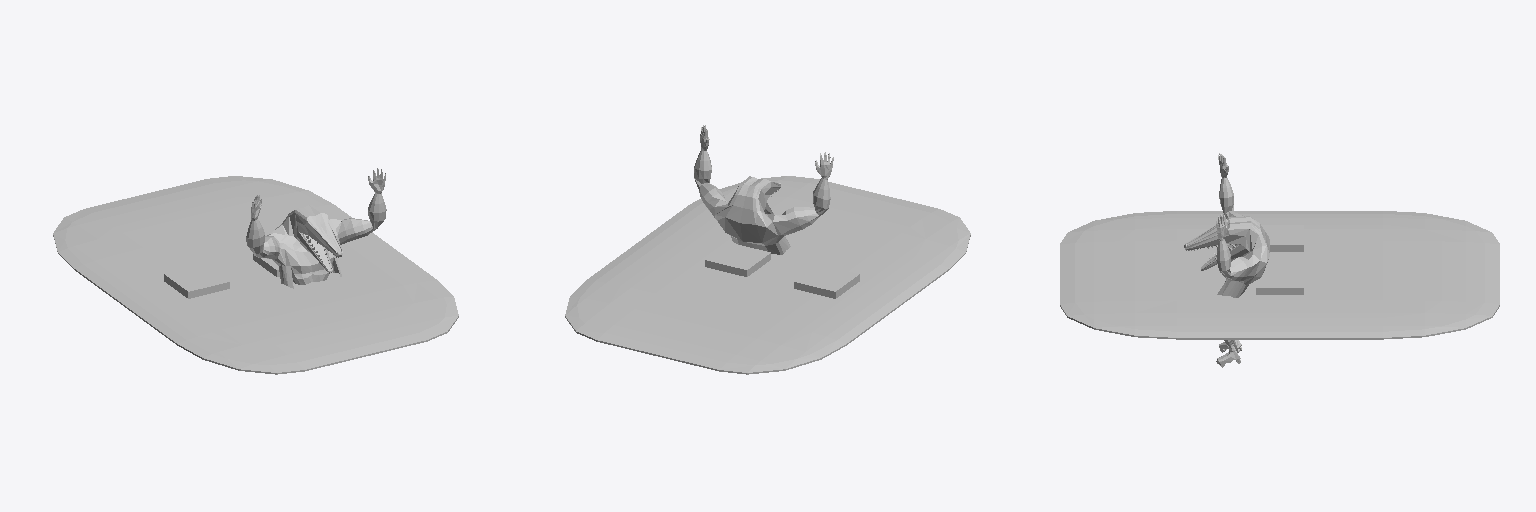
File: cocodrilaBonesSelect_000013.obj
3 renders of one model, left to right at view 1: azimuth 30°, elevation 25°; view 2: azimuth 150°, elevation 25°; view 3: azimuth 270°, elevation 25°, orthographic.
Parts seen in each view (by area): view 1: Mball, Crocodile.002_Cylinder.002, Cube; view 2: Mball, Crocodile.002_Cylinder.002, Cube, Cube.001; view 3: Mball, Crocodile.002_Cylinder.002, Cube.001, Cube.
Boxes of the visible parts, <box> form: Mball: <box>53,176,458,374</box>; Crocodile.002_Cylinder.002: <box>246,168,386,288</box>; Cube: <box>164,264,229,298</box>; Mball: <box>565,176,970,374</box>; Crocodile.002_Cylinder.002: <box>694,125,833,254</box>; Cube: <box>794,264,859,298</box>; Cube.001: <box>705,242,770,276</box>; Mball: <box>1060,211,1499,339</box>; Crocodile.002_Cylinder.002: <box>1184,153,1269,367</box>; Cube.001: <box>1256,268,1303,294</box>; Cube: <box>1261,225,1303,251</box>.
Size of the model in its own units: 12.42 by 8.19 by 18.18.